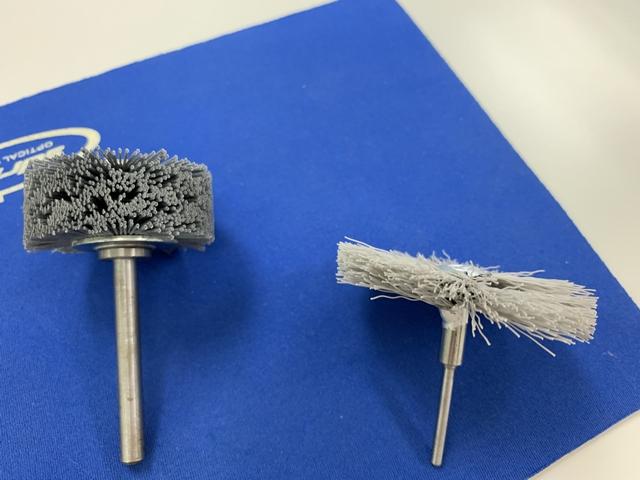TOOL: (332, 231, 621, 472), (401, 237, 598, 476), (408, 232, 557, 473)
Wheel Brush: (21, 143, 225, 470), (85, 147, 224, 464), (63, 138, 199, 458)
